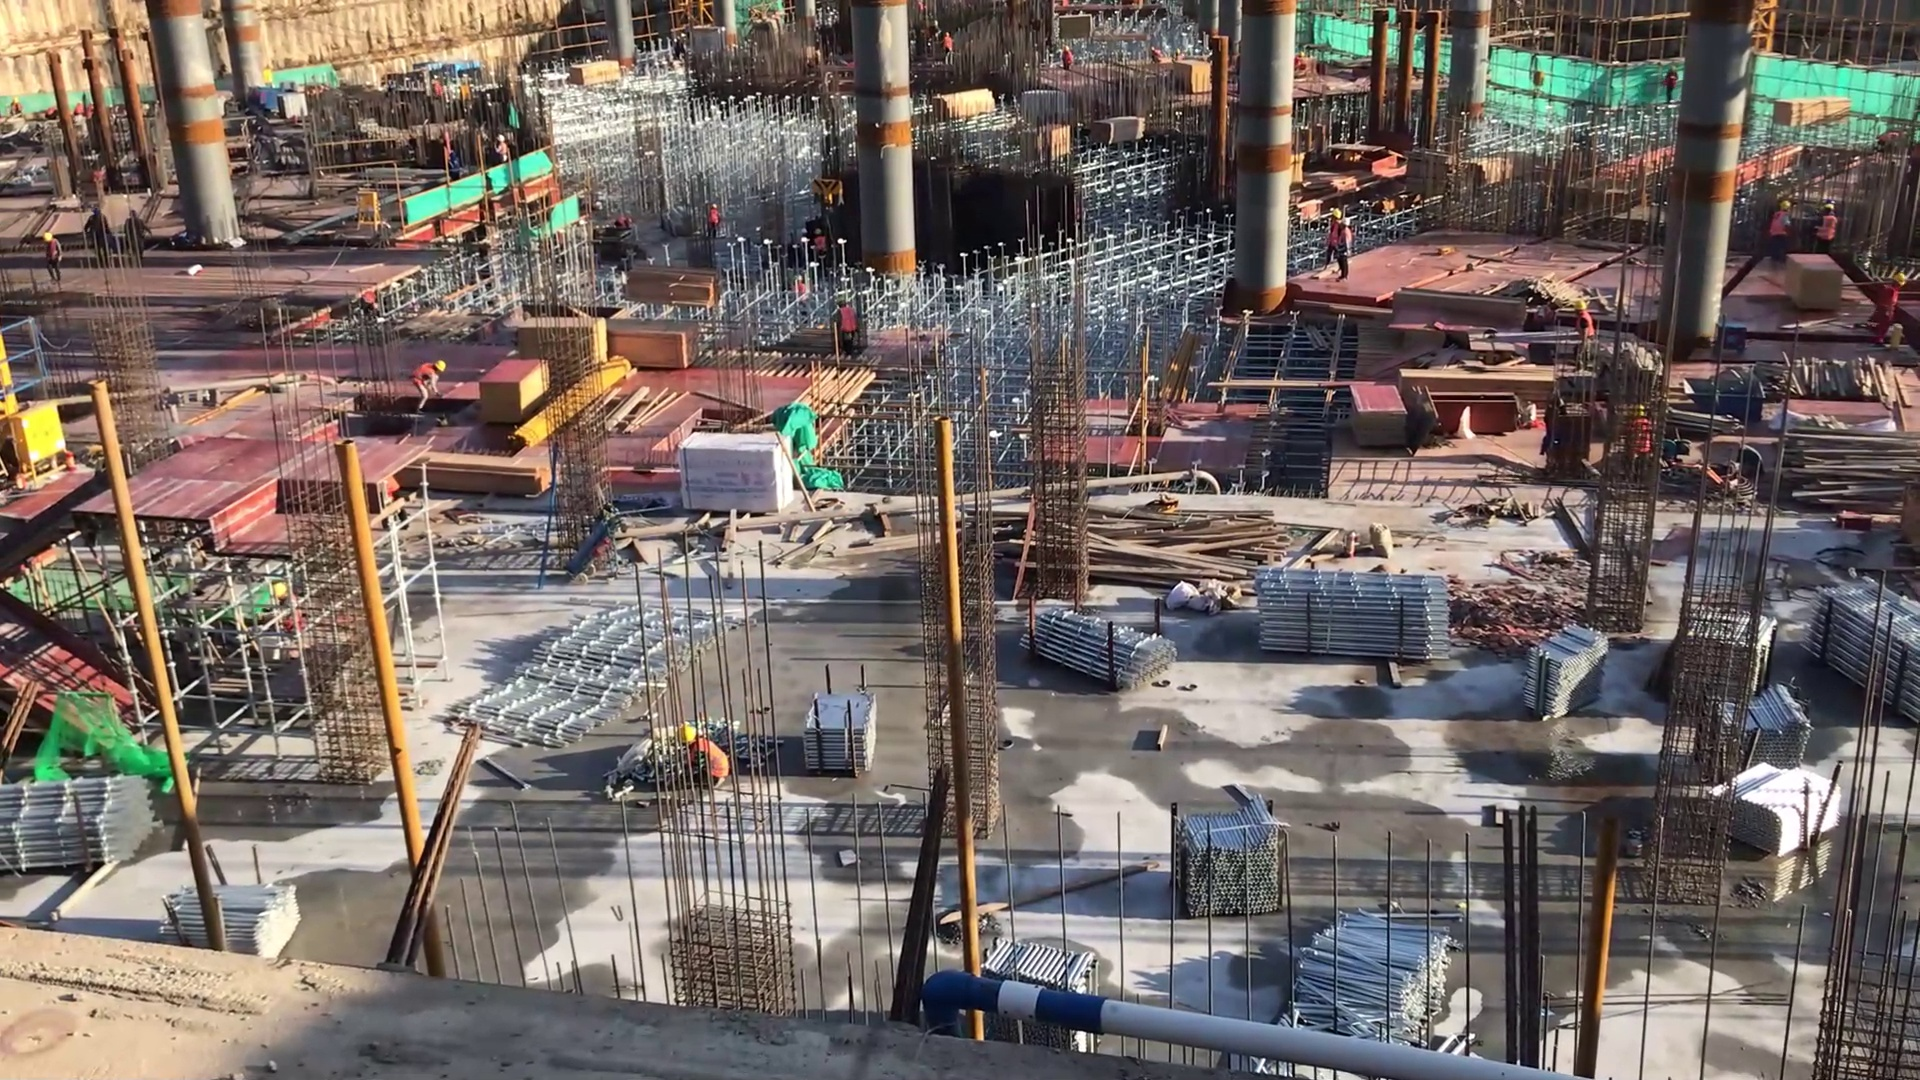helmet: (271, 577, 292, 602), (678, 724, 699, 746), (435, 354, 450, 378), (1571, 296, 1587, 316), (1891, 270, 1907, 286), (1327, 207, 1344, 222), (1341, 215, 1355, 229), (1779, 196, 1792, 212), (1821, 201, 1835, 213), (42, 231, 54, 245), (812, 227, 823, 239), (834, 296, 845, 306), (710, 202, 718, 211)
person: (677, 726, 738, 801), (1869, 268, 1912, 358), (410, 353, 451, 416), (831, 293, 865, 366), (1572, 296, 1601, 376), (1814, 198, 1846, 264), (40, 223, 67, 294), (1769, 197, 1794, 265), (1325, 205, 1346, 281), (1336, 216, 1357, 287), (1658, 60, 1685, 114), (364, 282, 387, 328), (812, 227, 833, 268), (492, 131, 514, 169), (447, 148, 464, 189), (943, 25, 955, 77), (1060, 42, 1077, 74), (709, 201, 723, 241), (1148, 44, 1165, 69), (616, 214, 632, 234), (1175, 45, 1187, 64)
vest: (693, 737, 732, 779), (1875, 284, 1901, 318), (1817, 213, 1840, 246), (412, 360, 438, 387), (838, 304, 858, 337), (1771, 209, 1789, 241), (1576, 312, 1598, 338), (1337, 227, 1353, 257), (44, 241, 63, 261), (448, 158, 462, 174)
